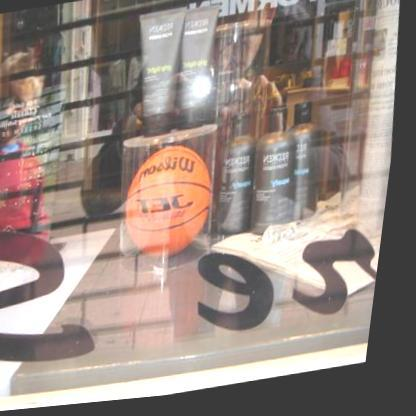basketball: (120, 134, 227, 267)
